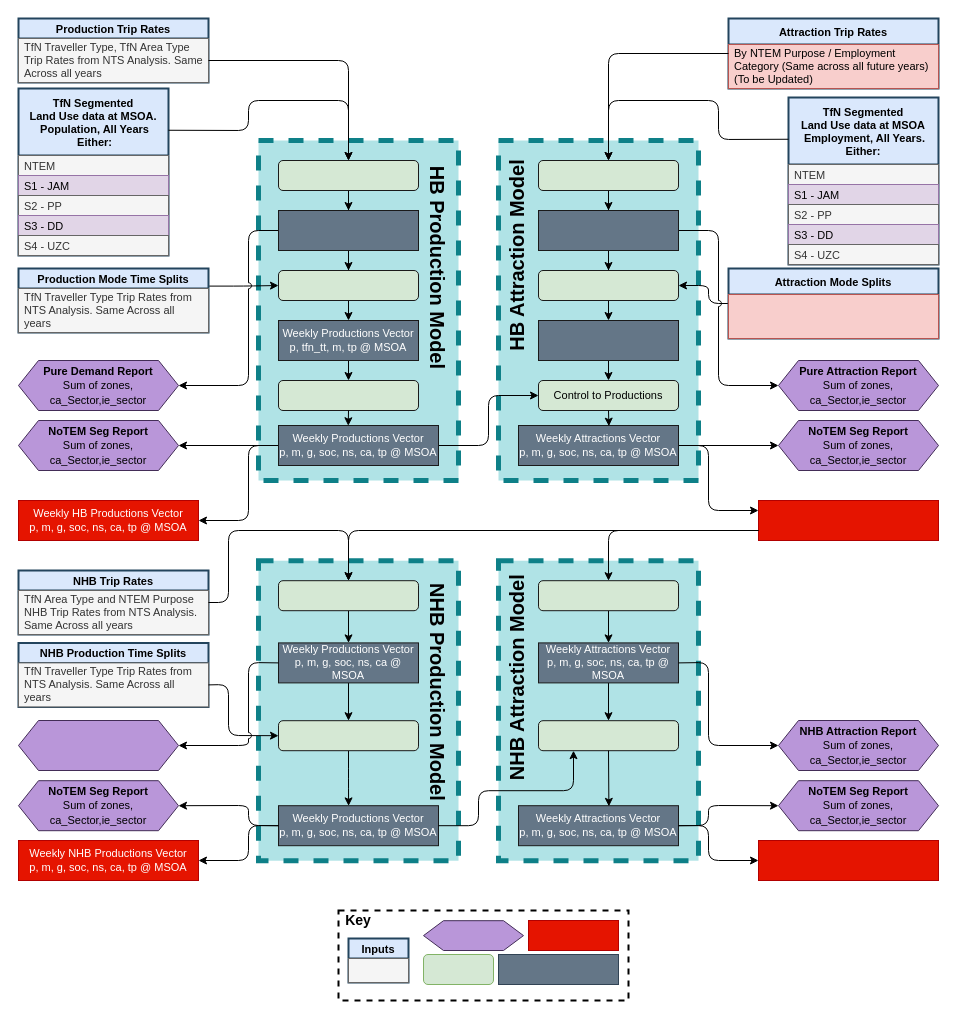
Some shapes in this 956 by 1018 pixel diagram are drawn without their labels. The shapes that lost their labels are listed below. From the top down, each one's centre as x and y in pixels, then its label:
At (348,175): "Trip Generation".
At (608,175): "Attraction Generation".
At (348,230): "Weekly Productions Vector p, tfn_tt @ MSOA".
At (608,230): "Weekly Attractions Vector p, soc @ MSOA".
At (348,285): "Apply Mode-Time Splits".
At (608,285): "Apply Mode Splits".
At (833,316): "By NTEM Purpose (Same across all future years) (To be Updated)".
At (608,340): "Weekly Attractions Vector p, m, soc @ MSOA".
At (348,395): "Aggregate Segmentation".
At (848,520): "Weekly HB Attractions Vector p, m, g, soc, ns, ca, tp @ MSOA".
At (348,595): "Apply NHB Trip Rates".
At (608,595): "Convert to NHB Attraction".
At (98,745): "NHB Demand Report Sum of zones, ca_Sector,ie_sector".
At (348,735): "Apply Time Splits".
At (608,735): "Control to NHB Productions".
At (848,860): "Weekly NHB Attractions Vector p, m, g, soc, ns, ca, tp @ MSOA".
At (473,935): "Output report".
At (573,935): "Output Vector".
At (378,970): "Input Info".
At (458,969): "Process".
At (558,969): "Intermediate Output".
